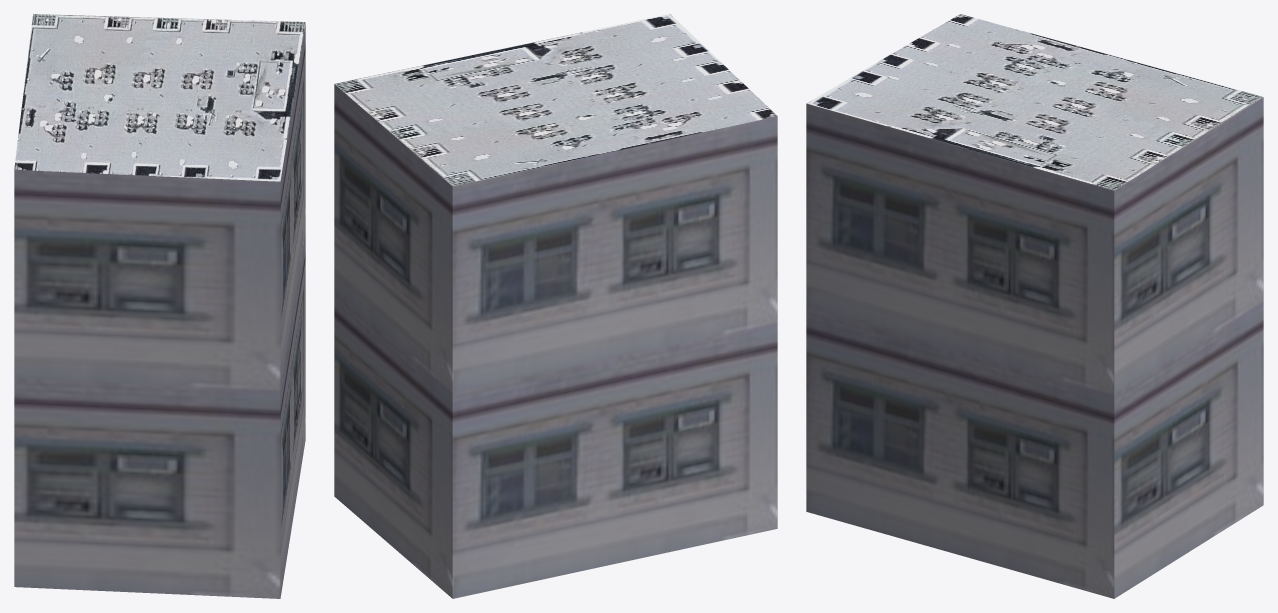
File: ResTex__4225.fbx
The picture shows the model from 3 angles, left to right: view 1: azimuth 30°, elevation 25°; view 2: azimuth 150°, elevation 25°; view 3: azimuth 270°, elevation 25°; orthographic projection. The views are drawn at different scales.
Visible parts, largest first — view 1: CityEngineMaterial_1_m, CityEngineMaterial_2_m; view 2: CityEngineMaterial_1_m, CityEngineMaterial_2_m; view 3: CityEngineMaterial_1_m, CityEngineMaterial_2_m.
Part boxes in pixels (x1=…): CityEngineMaterial_1_m: x1=14, y1=24, x2=305, y2=598; CityEngineMaterial_2_m: x1=14, y1=14, x2=305, y2=181; CityEngineMaterial_1_m: x1=334, y1=84, x2=777, y2=598; CityEngineMaterial_2_m: x1=334, y1=14, x2=777, y2=186; CityEngineMaterial_1_m: x1=806, y1=97, x2=1263, y2=598; CityEngineMaterial_2_m: x1=806, y1=14, x2=1262, y2=190.
Bounding box in the file's own units: 5.57 × 6 × 6.09.
2 materials, 2 textured.
